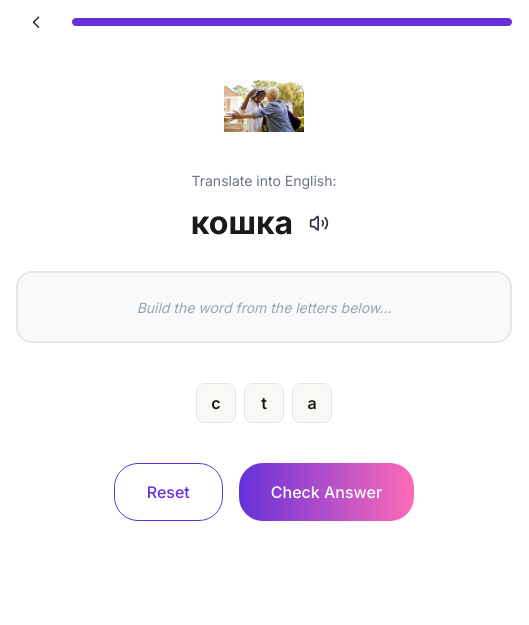
Test: WordBuilderPage › clicking a letter then Check Answer shows Try Again (random shuffle)
Expected: the button "Check Answer" is shown, [239,463,414,521]
// Pick a single letter — almost certainly not the full word "cat"
Click the button "c" at (216, 403), box [196,383,236,423]
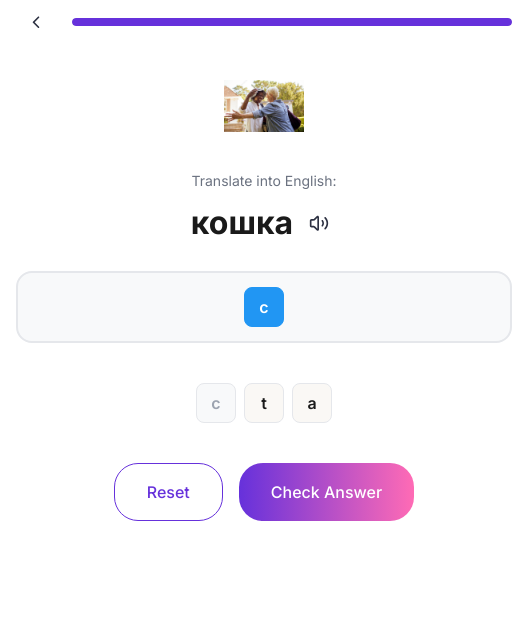
Click the button "Check Answer" at (326, 492), box [239,463,414,521]
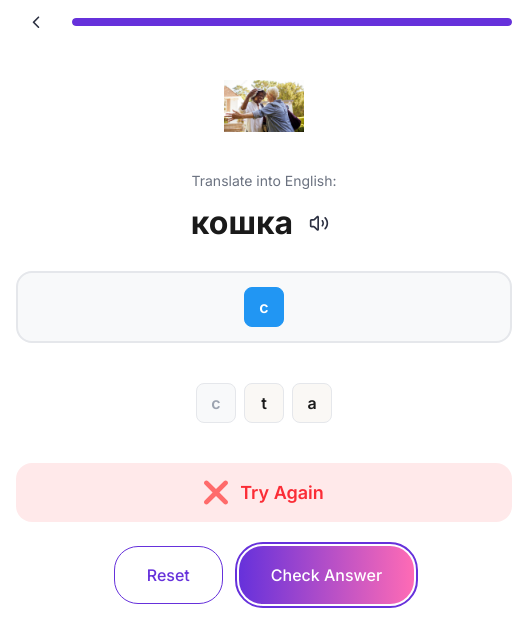
Now the text "Try Again" is shown, box [240,479,324,506]
